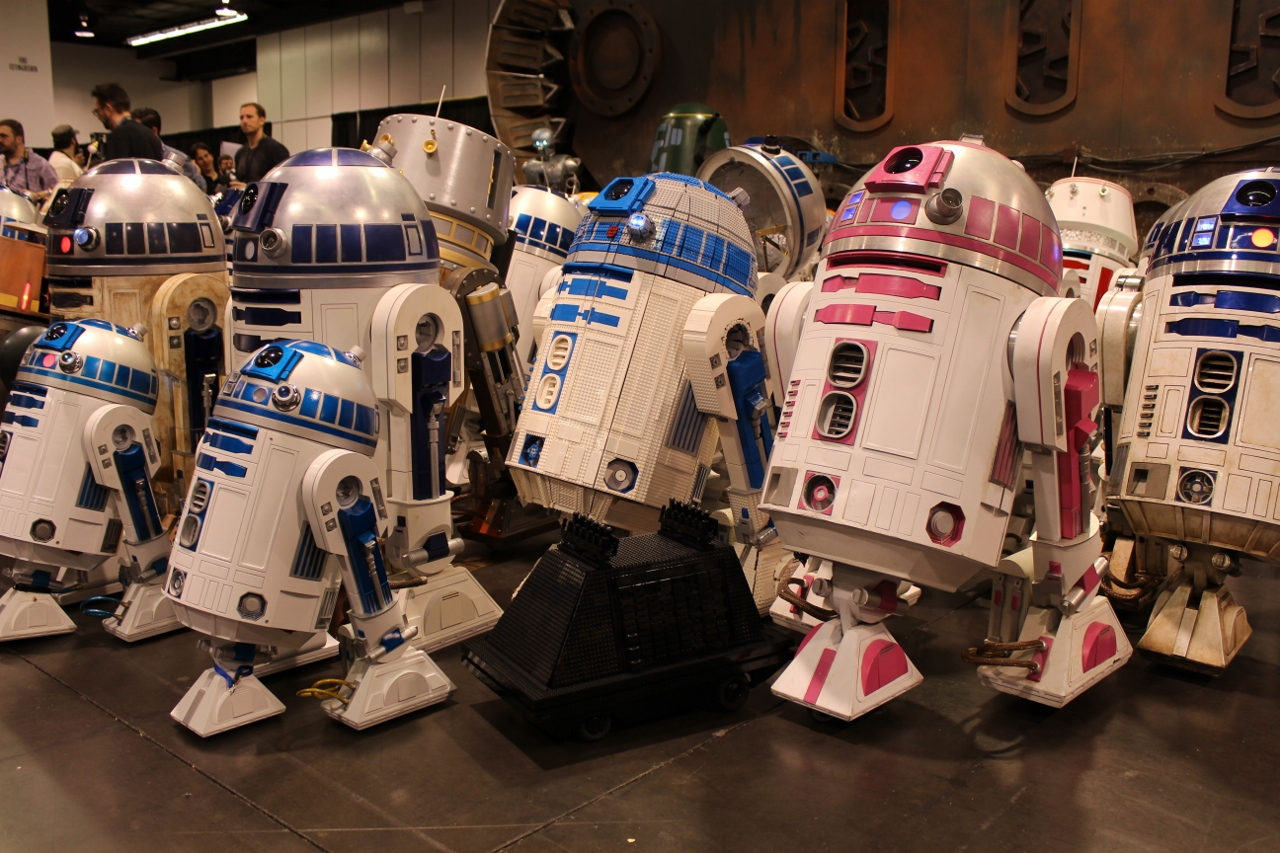r2d2: (788, 137, 1117, 718), (536, 176, 764, 661), (174, 340, 452, 732), (1131, 169, 1279, 668), (4, 322, 174, 648), (227, 144, 461, 341), (45, 161, 230, 324)
